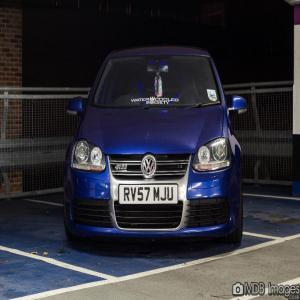Vehicle-registration-plate: (120, 183, 179, 205)
